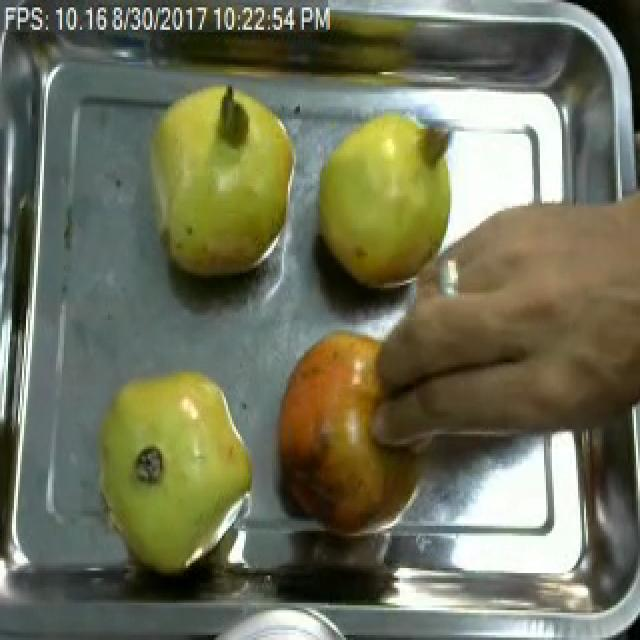fruit: (80, 355, 266, 585), (128, 72, 308, 293), (268, 318, 432, 553), (308, 99, 476, 305)
